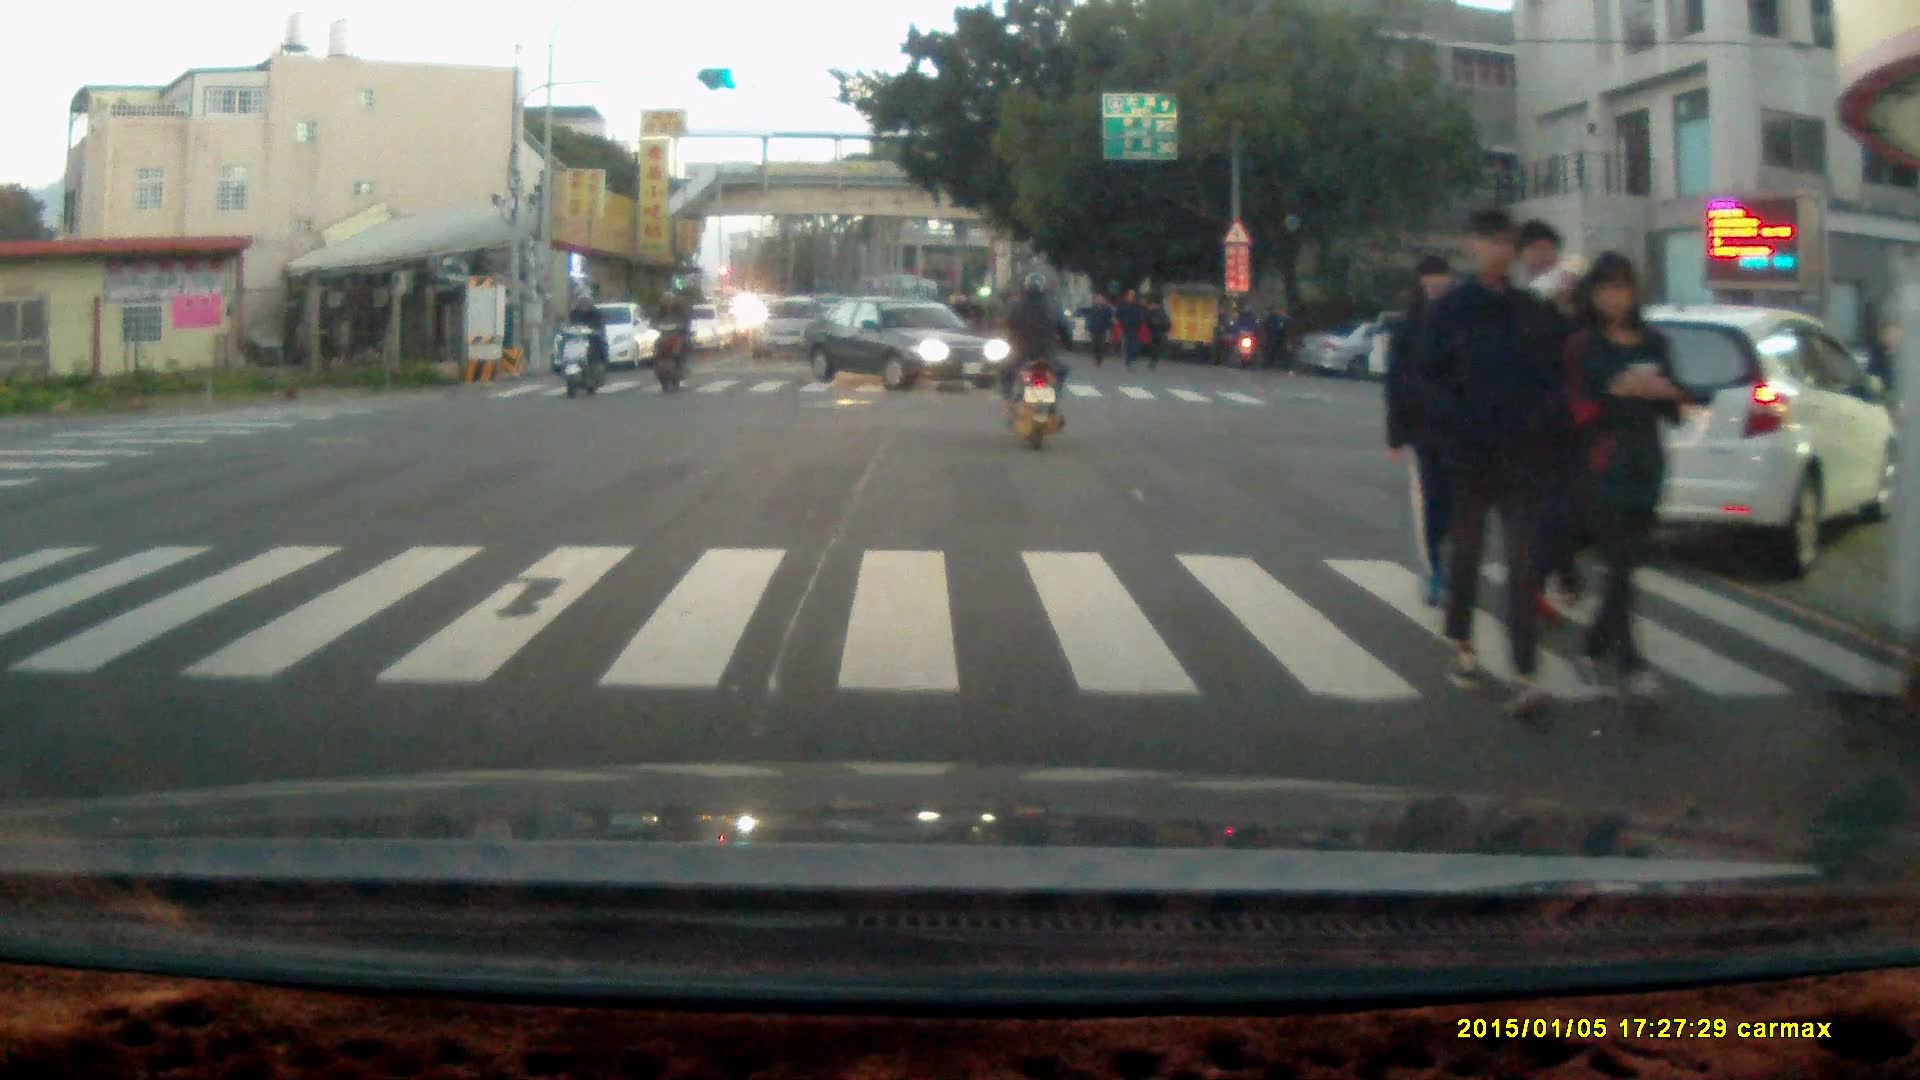pedestrian: (1411, 200, 1574, 728), (1561, 245, 1688, 731), (1384, 249, 1498, 609), (1112, 282, 1142, 371), (1138, 292, 1170, 372), (1256, 298, 1287, 375), (1082, 289, 1112, 370)
rider: (1000, 266, 1072, 450), (556, 284, 608, 398), (642, 284, 694, 392), (1223, 301, 1262, 366)
vehicle: (1551, 303, 1913, 593), (796, 289, 1014, 390), (1298, 318, 1462, 381), (556, 301, 659, 372), (748, 296, 835, 365)
